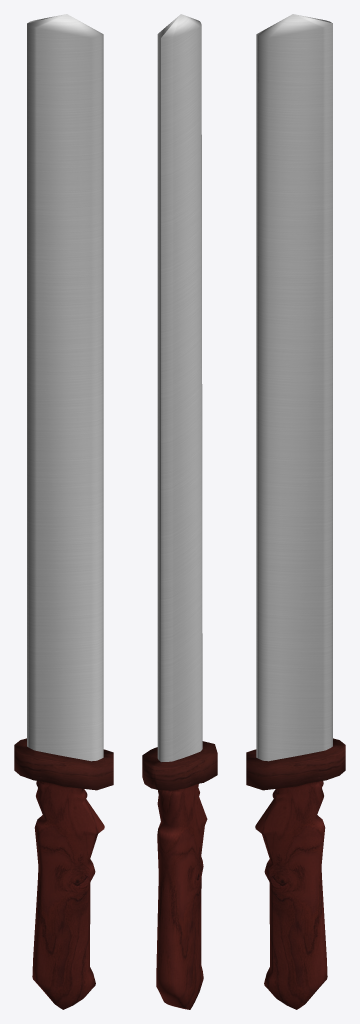
Rendered from Sword.fbx.
3 views of the same model, side by side, from view 1: azimuth 90°, elevation 25°; view 2: azimuth 150°, elevation 25°; view 3: azimuth 270°, elevation 25° (orthographic).
Visible parts, largest first — view 1: pCube3; view 2: pCube3; view 3: pCube3.
Part boxes in pixels (left/top/right/bottom): pCube3: left=14, top=14, right=113, bottom=1009; pCube3: left=142, top=14, right=217, bottom=1009; pCube3: left=246, top=14, right=345, bottom=1009.
Bounding box in the file's own units: 0.0419 × 0.7962 × 0.0723.
